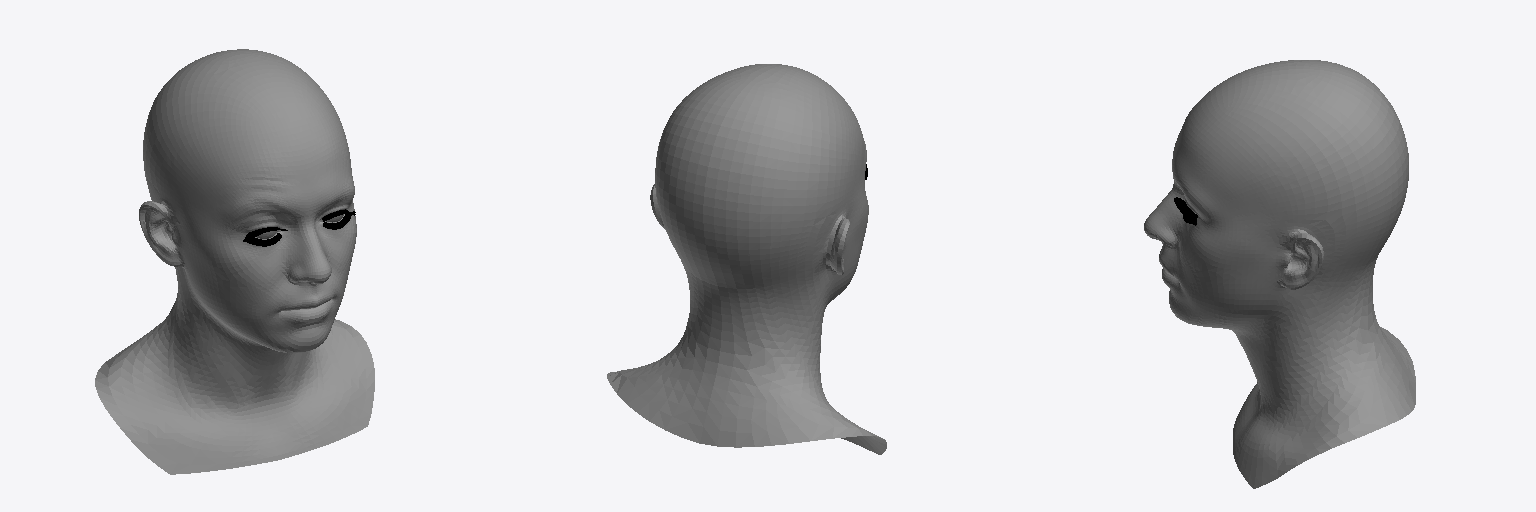
Rendered from browOuterUp_R.obj.
3 renders of one model, left to right at view 1: azimuth 30°, elevation 25°; view 2: azimuth 150°, elevation 25°; view 3: azimuth 270°, elevation 25°, orthographic.
Bounding box in the file's own units: 24.83 × 33.81 × 22.32.